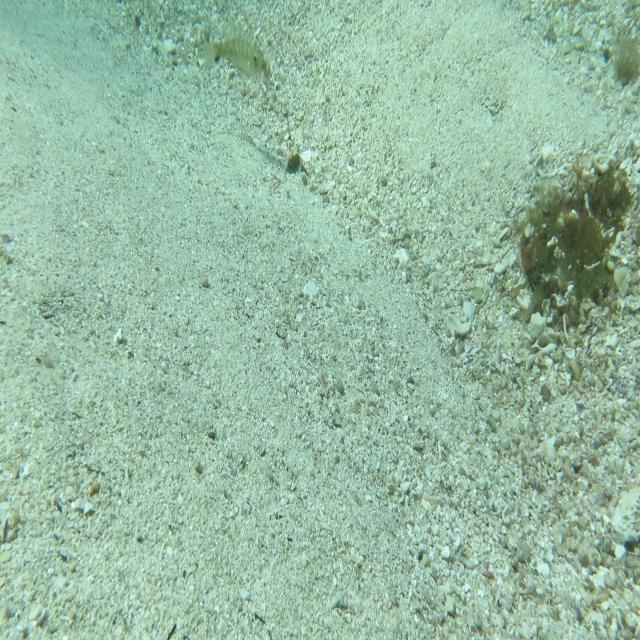AM: (202, 20, 266, 80)
core_nest: (586, 180, 622, 216)
nest: (520, 146, 633, 336)
nest_material: (262, 61, 271, 79)
vegetation: (607, 28, 640, 92), (284, 154, 300, 180)
